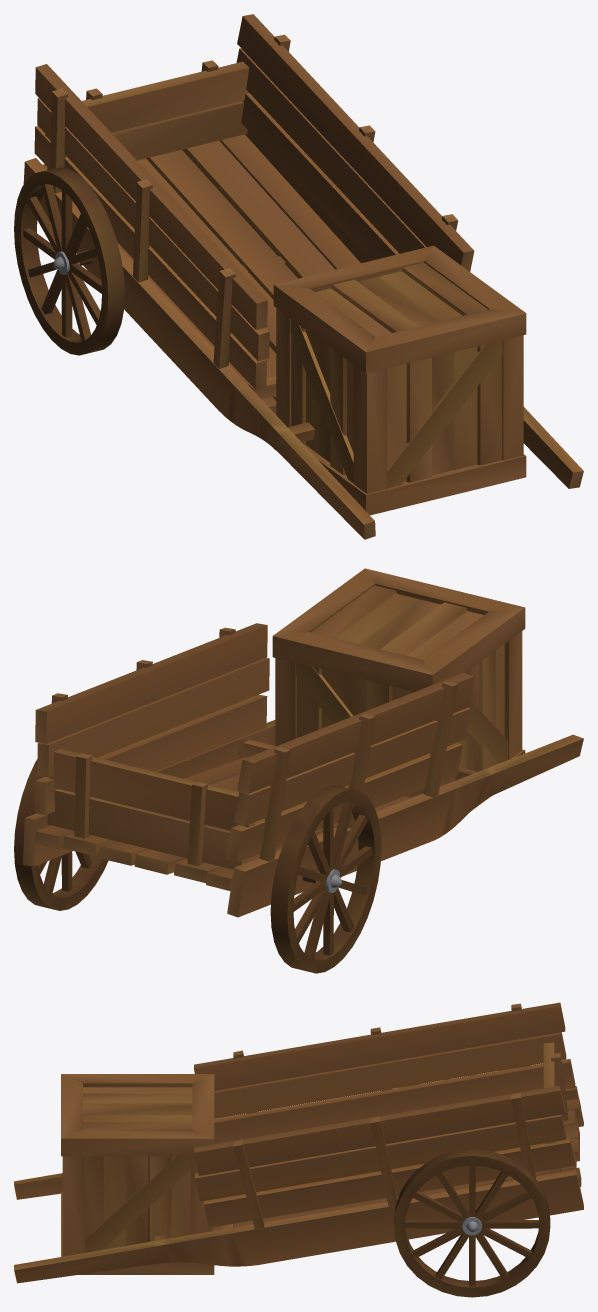
File: qkit.glb
The picture shows the model from 3 angles, top to bottom: view 1: azimuth 30°, elevation 25°; view 2: azimuth 150°, elevation 25°; view 3: azimuth 270°, elevation 25°; orthographic projection. The views are drawn at different scales.
Visible parts, largest first — view 1: Prop_Wagon, Prop_Crate; view 2: Prop_Wagon, Prop_Crate; view 3: Prop_Wagon, Prop_Crate.
Boxes of the visible parts, bbox=[...] form: Prop_Wagon: bbox=[14, 14, 583, 539]; Prop_Crate: bbox=[273, 245, 526, 515]; Prop_Wagon: bbox=[14, 623, 583, 973]; Prop_Crate: bbox=[272, 568, 525, 809]; Prop_Wagon: bbox=[14, 1002, 583, 1297]; Prop_Crate: bbox=[61, 1074, 214, 1274].
Bounding box in the file's own units: 1.95 × 1.53 × 4.02.
